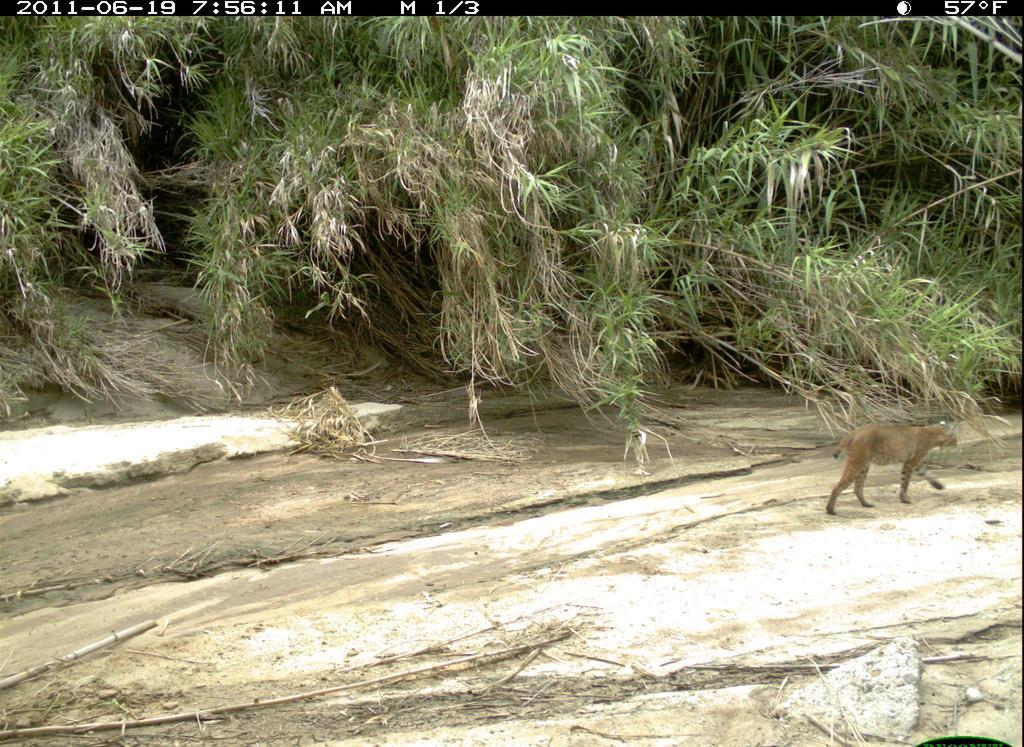bobcat: (821, 415, 966, 524)
